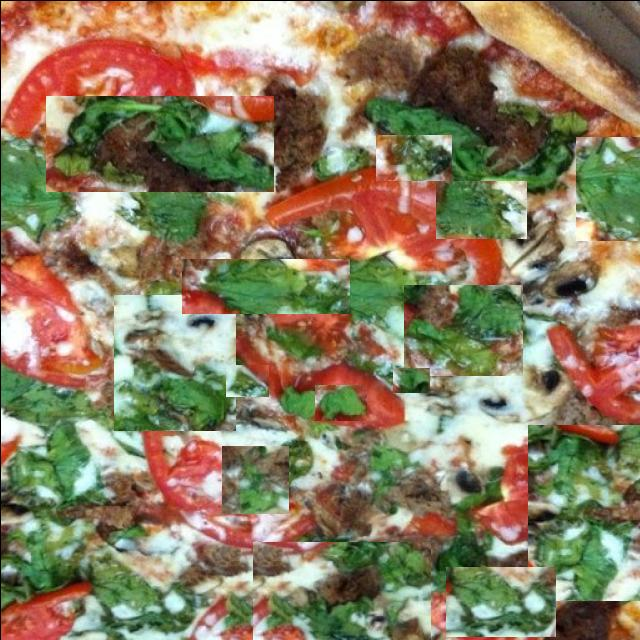basil: (45, 95, 273, 191), (527, 423, 640, 600), (252, 541, 430, 640), (113, 294, 235, 430), (535, 370, 640, 502), (134, 467, 220, 597), (0, 469, 94, 587), (403, 282, 522, 374), (181, 258, 349, 313), (445, 566, 555, 636), (575, 136, 640, 240), (435, 180, 526, 238), (221, 445, 288, 513), (375, 134, 451, 180), (312, 335, 383, 362), (314, 384, 366, 420), (272, 146, 323, 180), (225, 364, 268, 396), (391, 367, 428, 392)
pizza: (0, 0, 640, 640)
